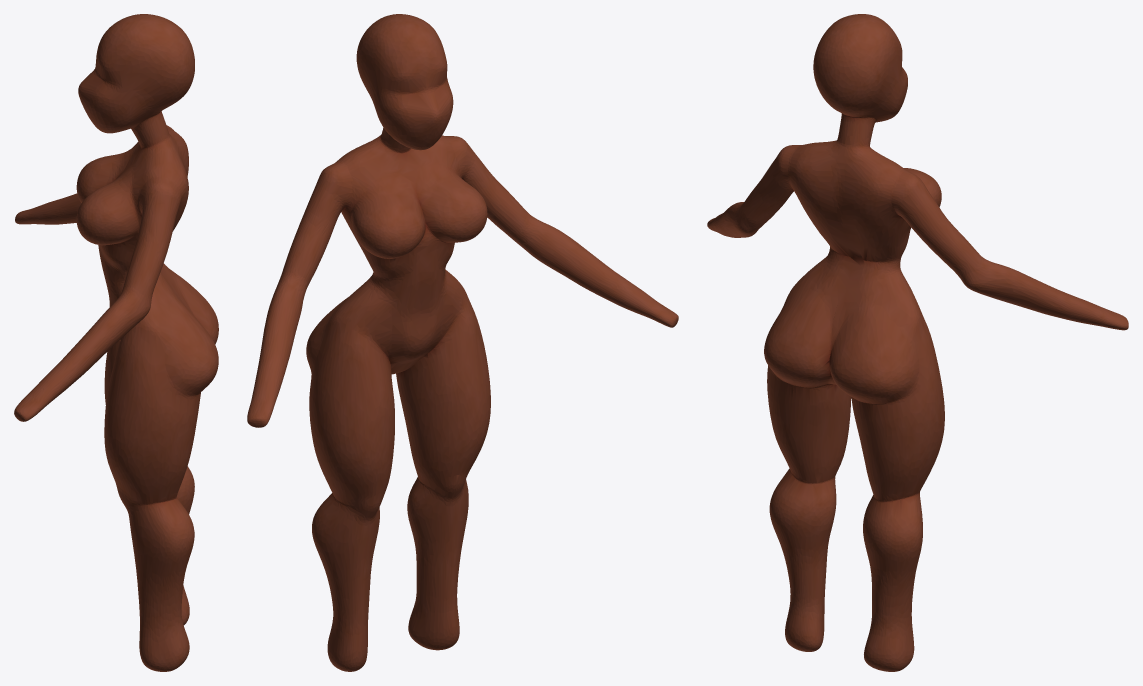
The model's file is female-sureal-1.glb.
3 views of the same model, side by side, from view 1: azimuth 30°, elevation 25°; view 2: azimuth 150°, elevation 25°; view 3: azimuth 270°, elevation 25° (orthographic). The views are drawn at different scales.
Visible parts, largest first — view 1: Merged_PM3D_Sphere3D3; view 2: Merged_PM3D_Sphere3D3; view 3: Merged_PM3D_Sphere3D3.
Boxes of the visible parts, x1,y1,x2,y2 form: Merged_PM3D_Sphere3D3: (14,14,218,671); Merged_PM3D_Sphere3D3: (247,14,678,671); Merged_PM3D_Sphere3D3: (707,14,1128,671).
Size of the model in its own units: 0.0397 by 0.0865 by 0.0522.
